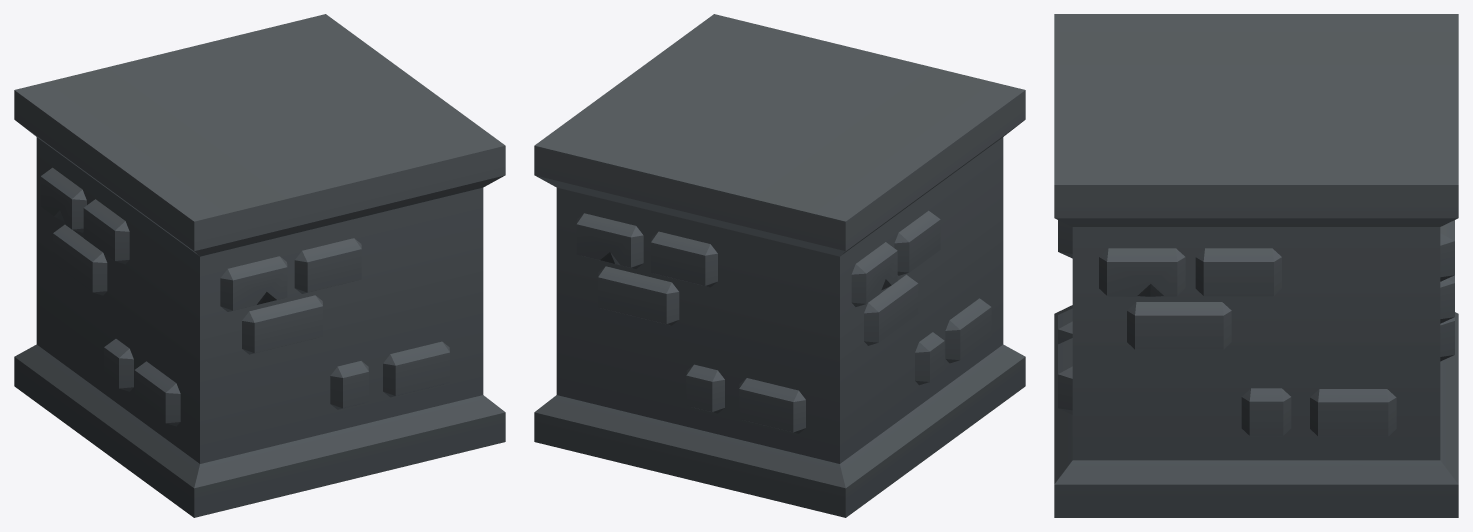
The model's file is footing.glb.
The picture shows the model from 3 angles, left to right: view 1: azimuth 30°, elevation 25°; view 2: azimuth 150°, elevation 25°; view 3: azimuth 270°, elevation 25°; orthographic projection. The views are drawn at different scales.
Visible parts, largest first — view 1: floor_foundation_allsides; view 2: floor_foundation_allsides; view 3: floor_foundation_allsides.
Boxes of the visible parts, bbox=[...] form: floor_foundation_allsides: bbox=[14, 14, 505, 517]; floor_foundation_allsides: bbox=[534, 14, 1025, 517]; floor_foundation_allsides: bbox=[1054, 14, 1458, 517].
Size of the model in its own units: 2.2 by 2 by 2.2.
1 material, 1 textured.
